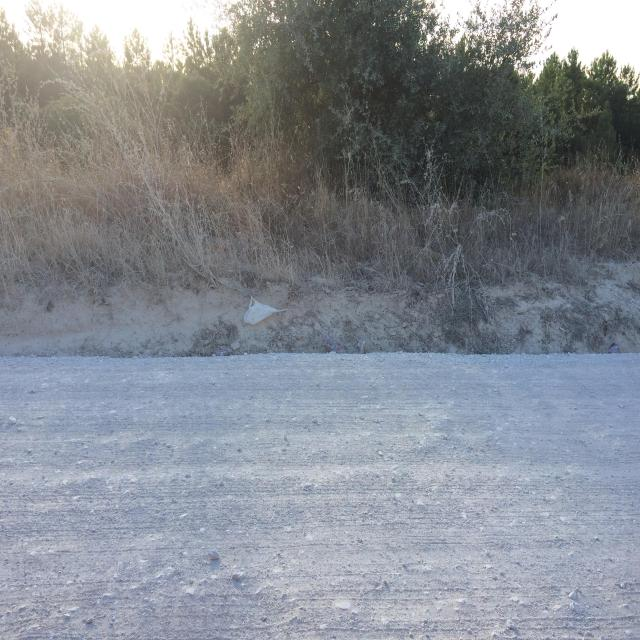litter: (244, 296, 286, 325)
